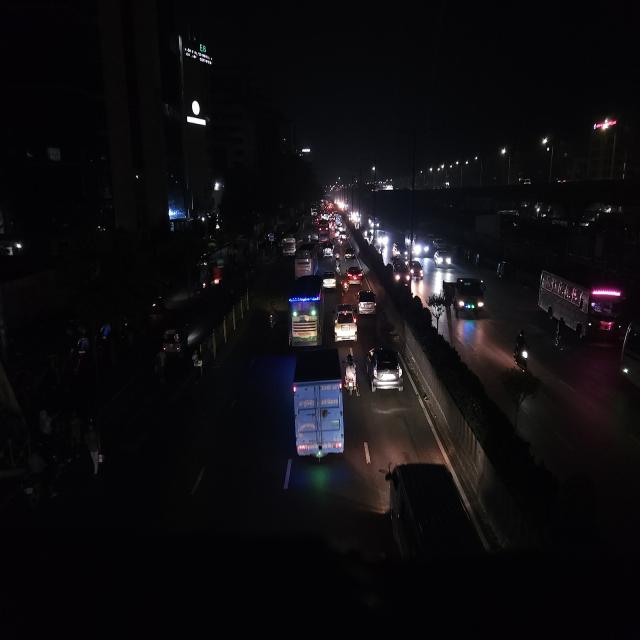bus: (534, 263, 626, 339), (287, 272, 325, 350), (293, 241, 319, 278), (412, 234, 432, 258), (318, 219, 330, 237)
car: (382, 456, 480, 592), (366, 341, 406, 396), (453, 274, 487, 316), (332, 302, 359, 343), (356, 288, 379, 316), (322, 258, 338, 292), (392, 258, 410, 287), (432, 246, 453, 270), (409, 258, 425, 284), (345, 264, 363, 286), (394, 241, 409, 258), (322, 239, 335, 257)
cng: (344, 246, 356, 263)
motorcycle: (511, 328, 532, 376), (344, 351, 360, 398), (266, 300, 280, 334), (334, 253, 341, 272)
truck: (286, 344, 348, 468)
